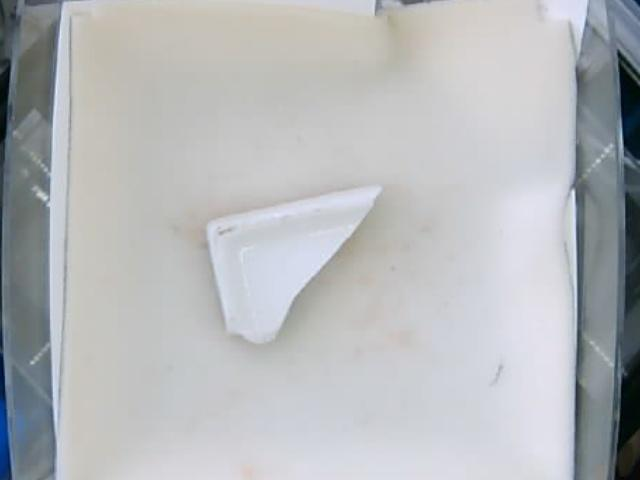China: (204, 184, 387, 346)
